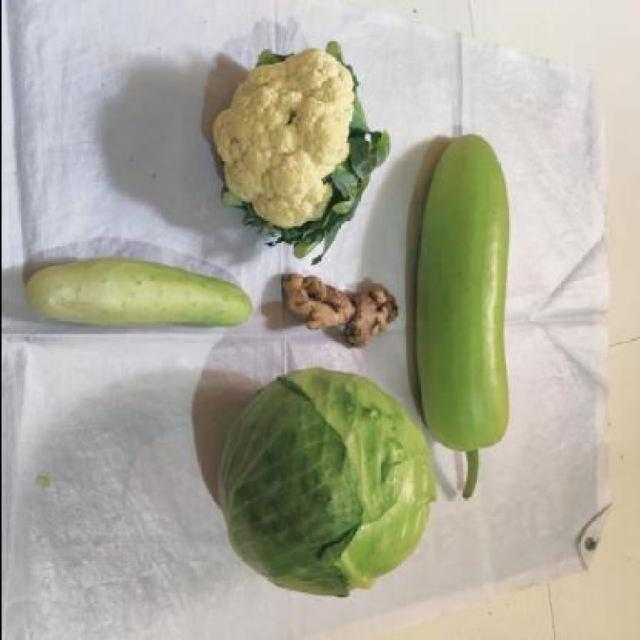Cabbage: (218, 366, 426, 597)
Calabash: (420, 130, 511, 503)
Cauliflower: (214, 44, 377, 252)
Ginger: (288, 274, 402, 354)
cucumber: (21, 258, 252, 329)
